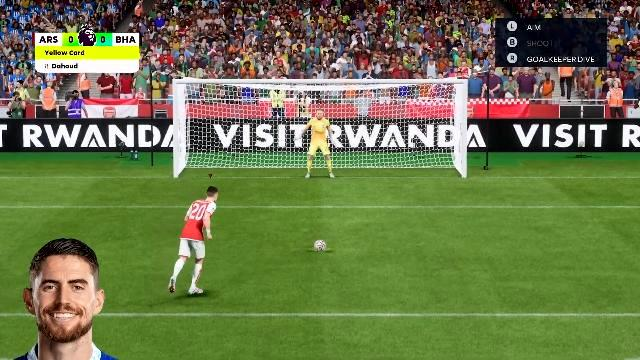bottom-left: (185, 142, 282, 178)
bottom-right: (367, 142, 458, 178)
center-down: (284, 142, 364, 180)
center-up: (284, 88, 364, 140)
circle: (310, 247, 332, 251)
football: (312, 239, 328, 249)
goalkeeper: (290, 117, 344, 180)
player: (168, 188, 224, 302)
top-left: (186, 87, 282, 140)
top-right: (368, 88, 457, 140)
